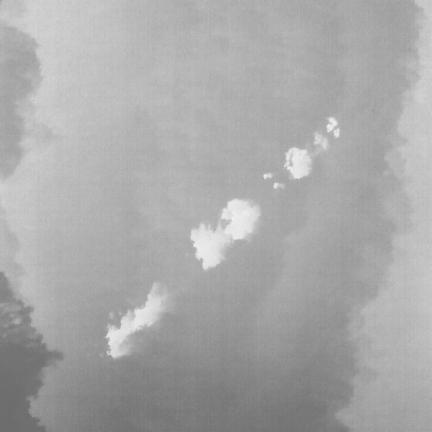flukeprints: (107, 284, 167, 358), (191, 225, 231, 269), (221, 199, 260, 239), (284, 148, 311, 179), (314, 132, 328, 149), (327, 117, 337, 132), (273, 182, 285, 189), (333, 127, 340, 138), (263, 172, 273, 179)
